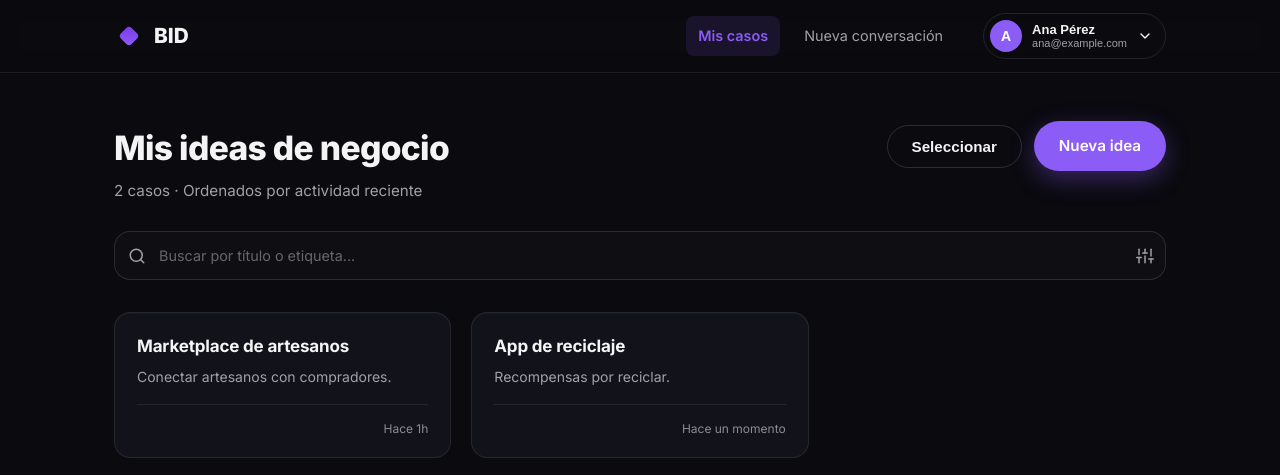
Scenario: CasesPage › renders cases and filters them by search
Check: the heading "Marketplace de artesanos" is shown, box [137, 336, 349, 356]
Check: the heading "App de reciclaje" is shown, box [494, 336, 625, 356]
Type "reciclaje" into the field with placeholder "Buscar por título o etiqueta..." at (640, 256), box [114, 231, 1166, 280]
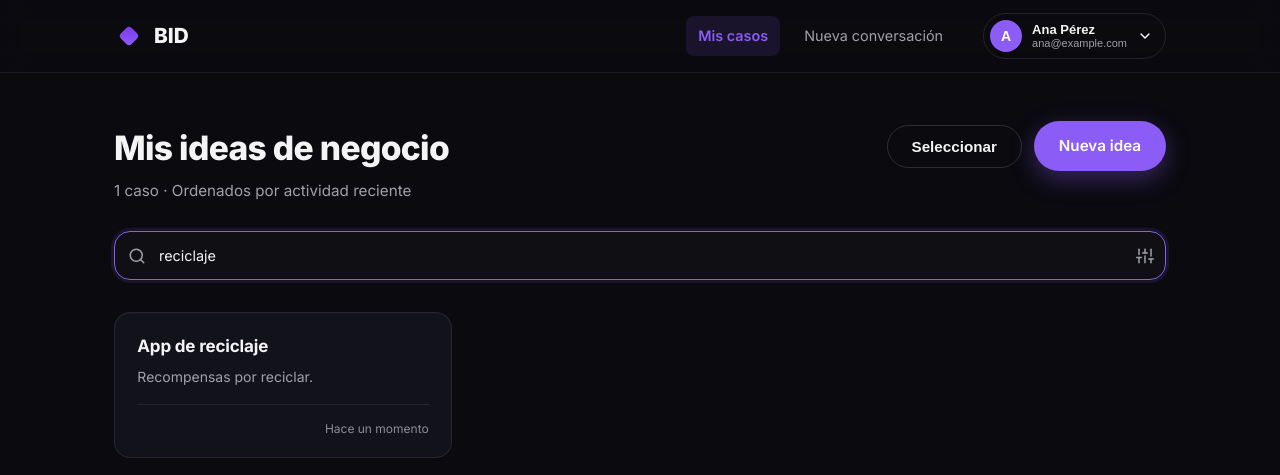
Check: the heading "App de reciclaje" is shown, box [137, 336, 268, 356]
Check: the link "Marketplace de artesanos" is gone
Check: the text "1 caso · Ordenados por actividad reciente" is shown, box [114, 181, 411, 200]
